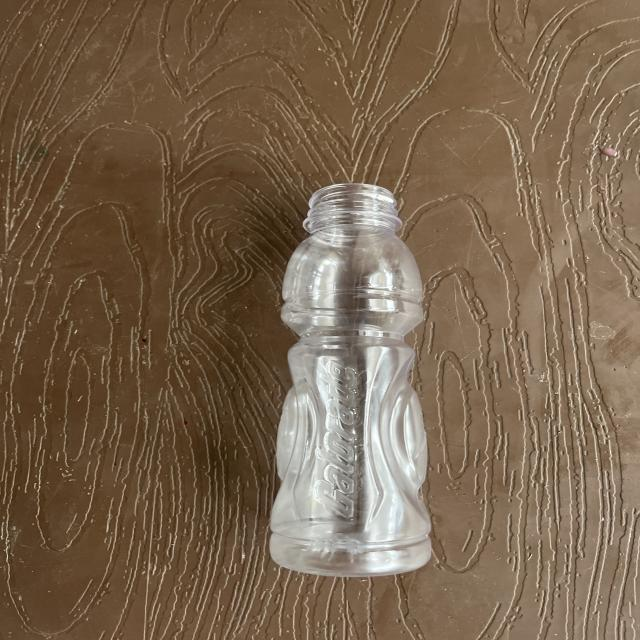PET_ClearBottle: (258, 188, 444, 572)
